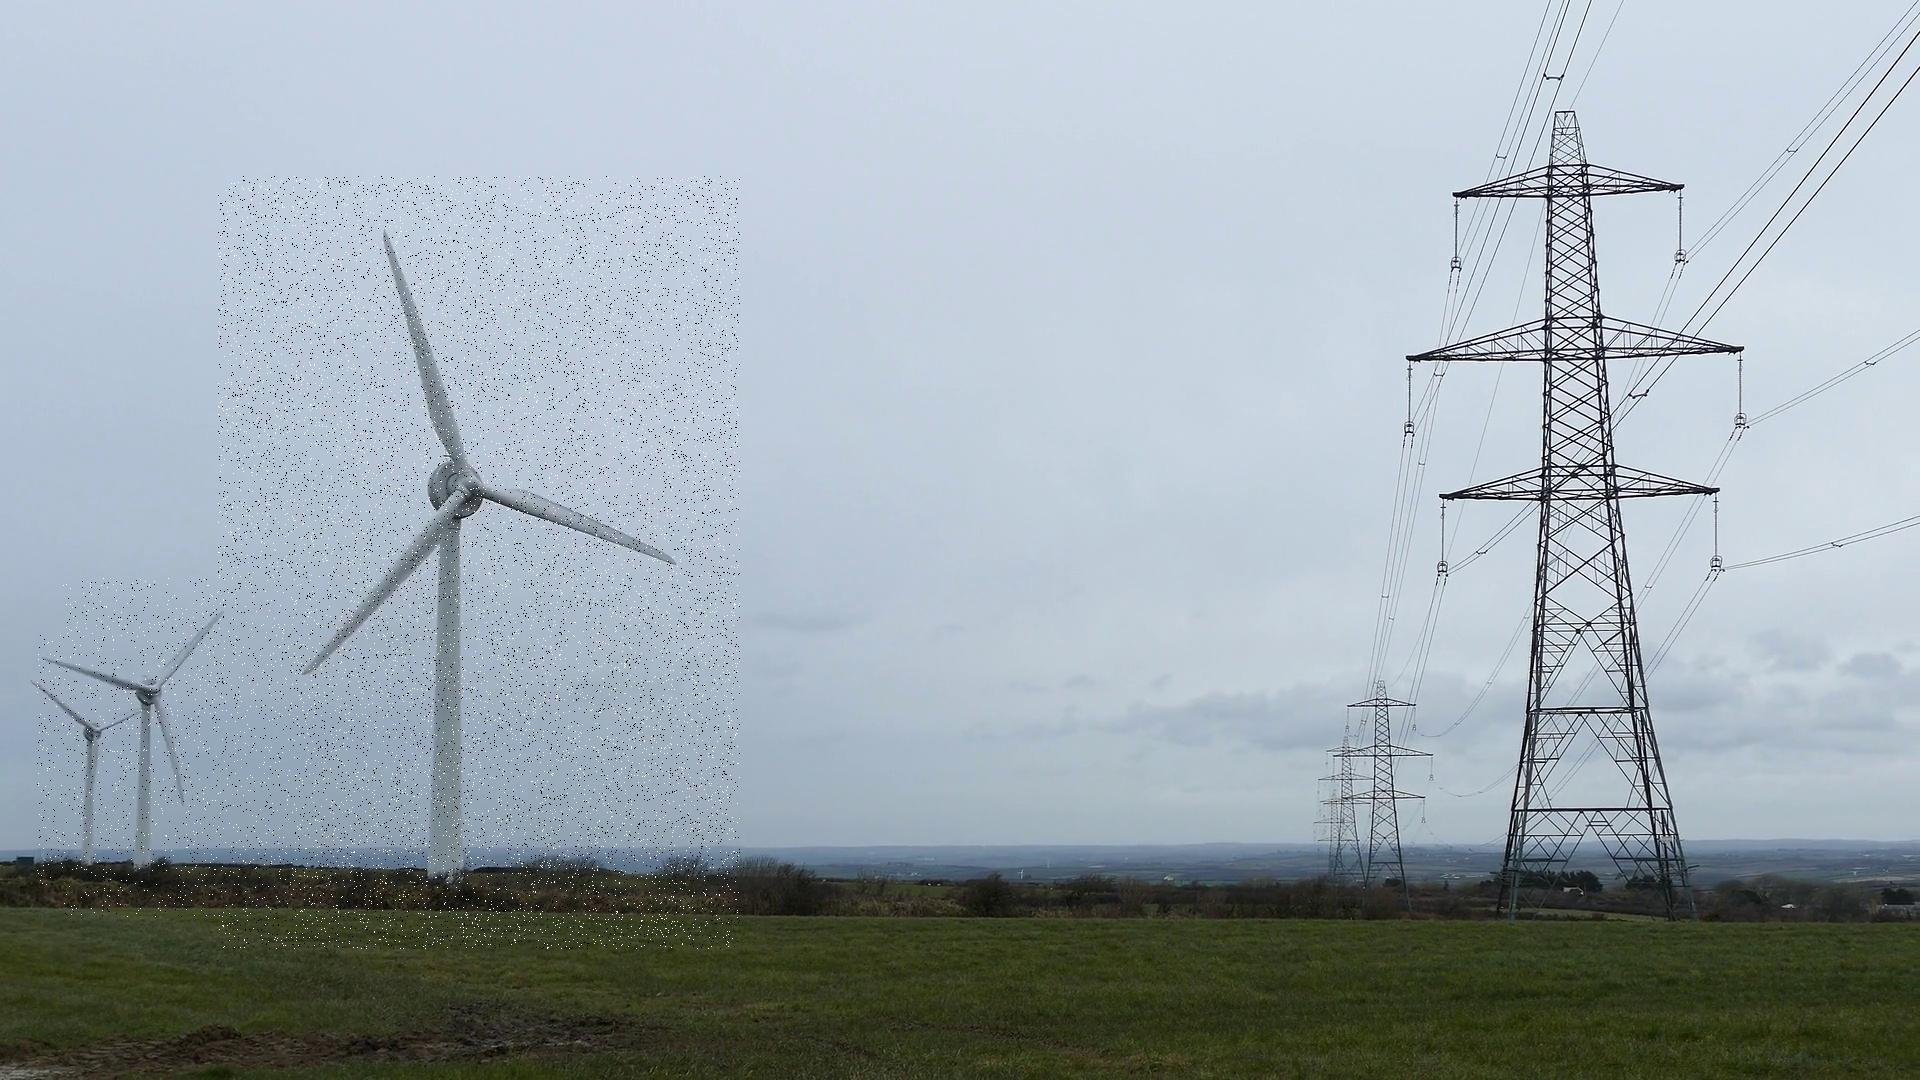cable tower: (1404, 105, 1743, 922), (1335, 679, 1433, 913), (1317, 735, 1377, 887), (1313, 793, 1353, 880)
turbine: (218, 175, 740, 949), (63, 579, 293, 918), (37, 633, 193, 887)
